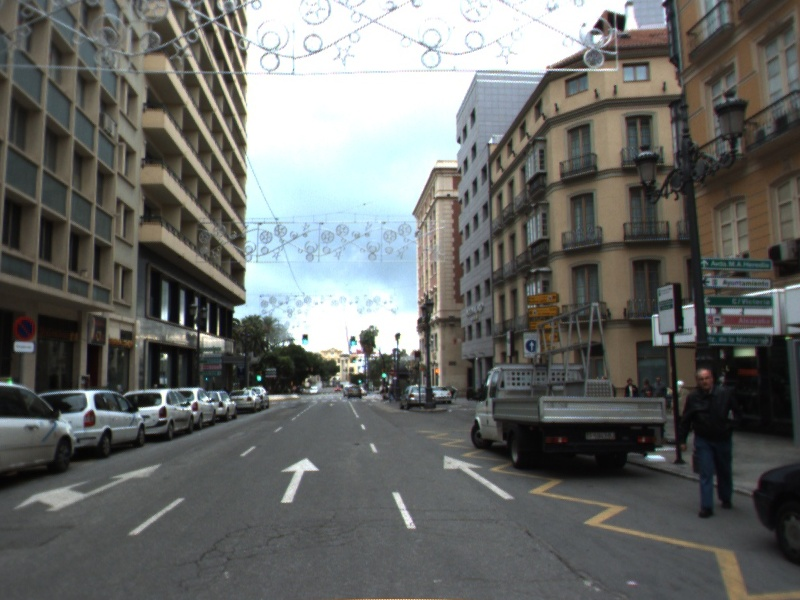STRAIGHT: (442, 453, 518, 502), (277, 455, 322, 505)
STRAIGHT_LEFT: (10, 461, 165, 514)
